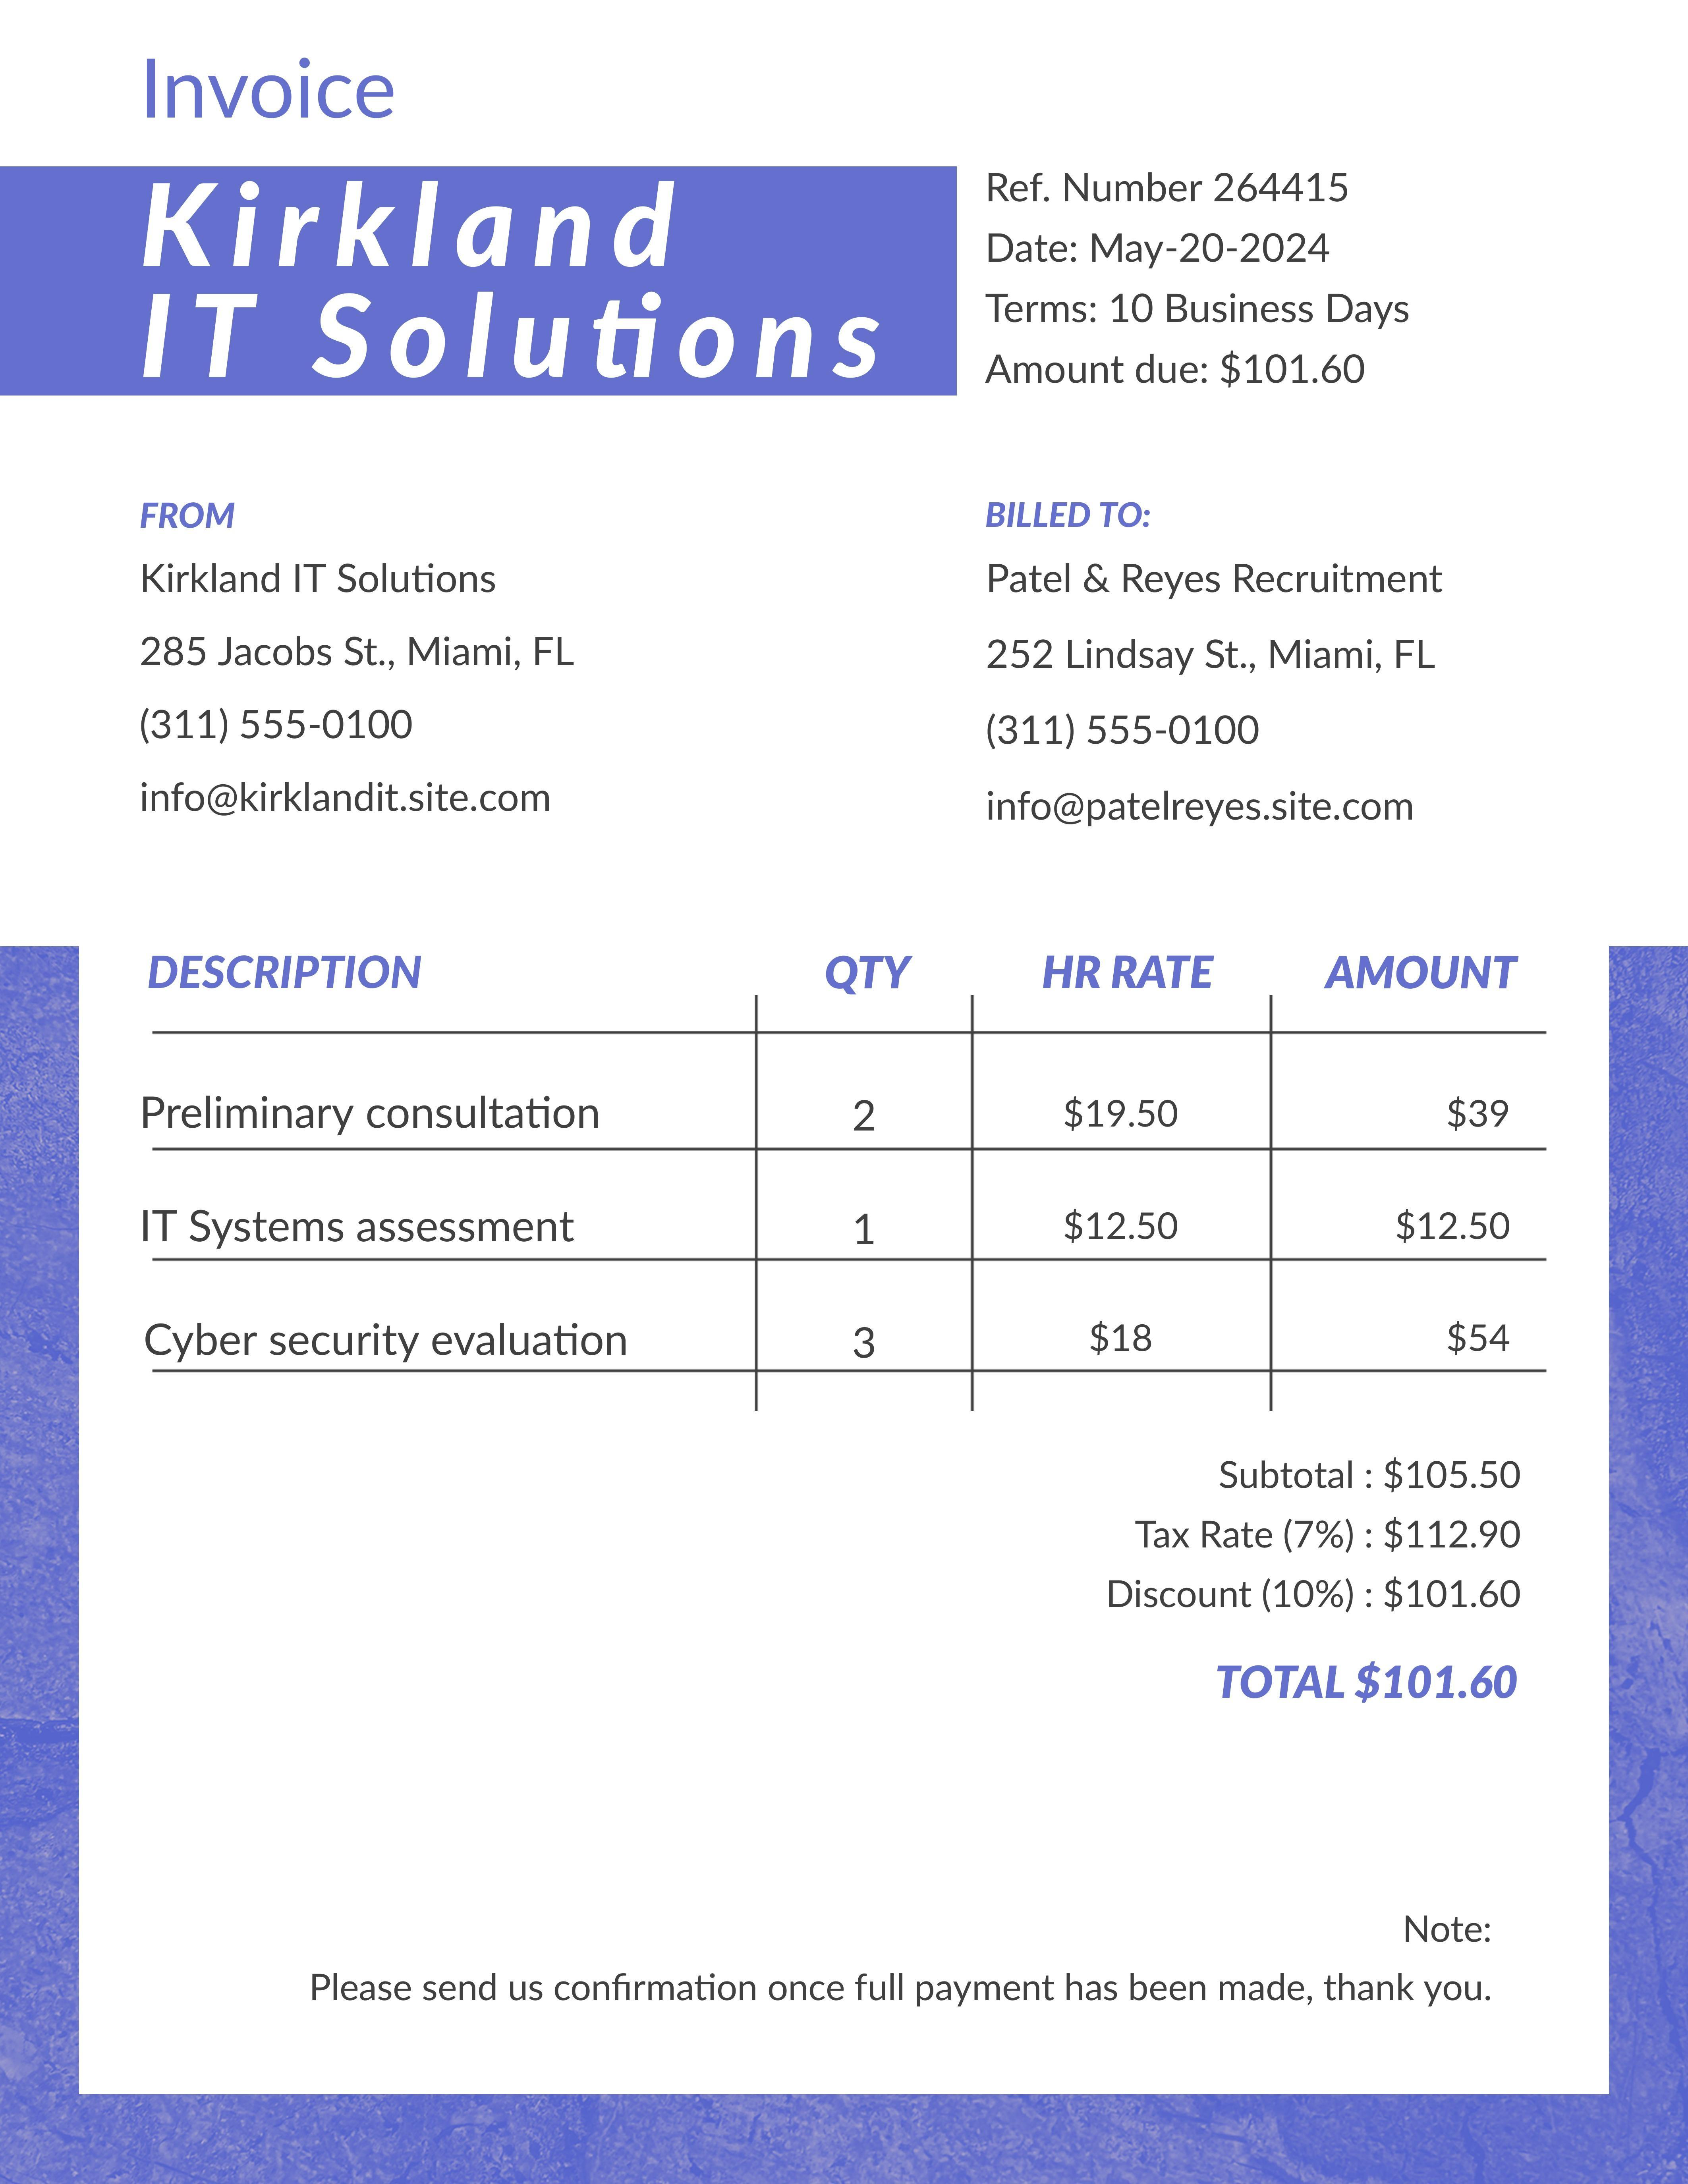ROI: (137, 941, 1559, 1385), (229, 1884, 1518, 2039), (117, 463, 601, 847), (975, 495, 1461, 833), (1083, 1432, 1560, 1725), (968, 149, 1422, 413)
